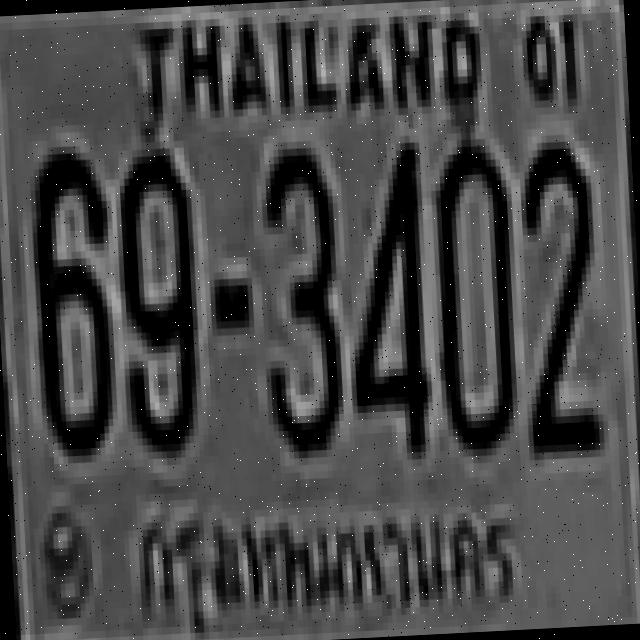0: (426, 138, 518, 451)
2: (513, 137, 599, 429)
3: (252, 140, 344, 453)
4: (339, 139, 431, 452)
6: (33, 144, 119, 450)
9: (116, 144, 202, 450)
Bangkok: (118, 479, 523, 640)
